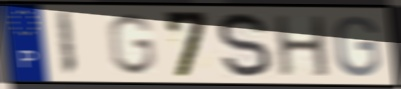7: (162, 9, 211, 81)
G: (105, 11, 158, 77), (332, 14, 383, 79)
H: (273, 14, 333, 79)
I: (54, 10, 79, 78)
S: (215, 10, 274, 80)
